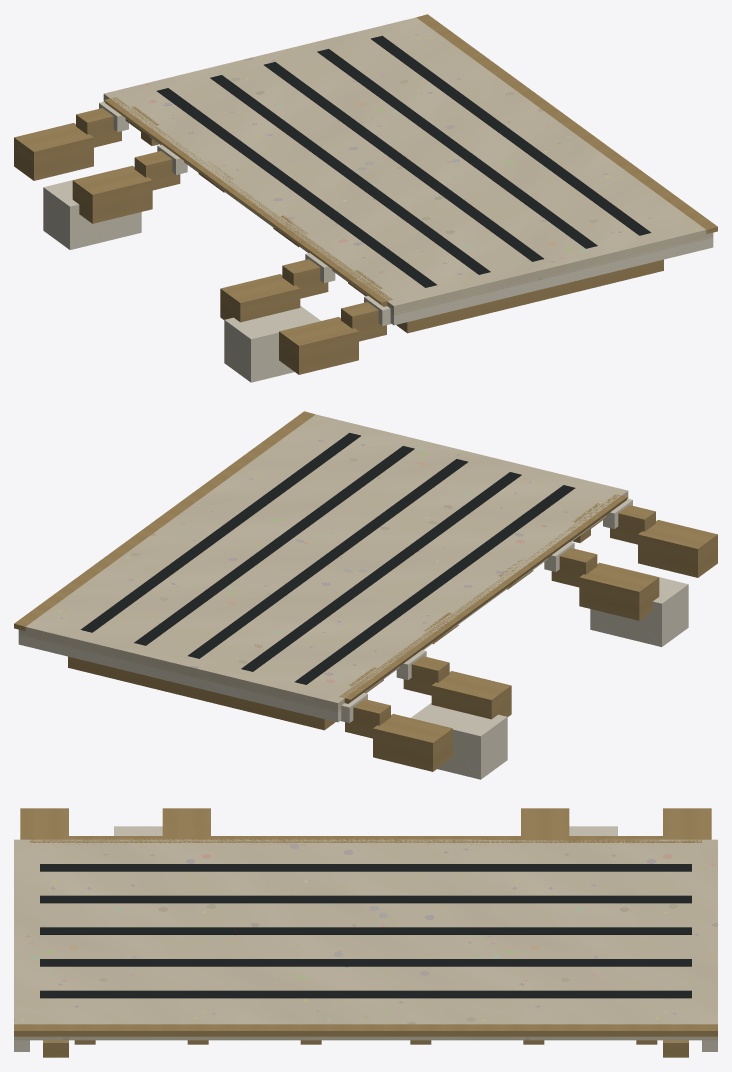
Rendered from bridge.glb.
3 renders of one model, top to bottom at view 1: azimuth 30°, elevation 25°; view 2: azimuth 150°, elevation 25°; view 3: azimuth 270°, elevation 25°, orthographic. The views are drawn at different scales.
Visible parts, largest first — view 1: BRIDGE_MainDeck, BRIDGE_HingeDriveHousing_0.68, BRIDGE_FixedHingePin, BRIDGE_ProfiledEdge_1.065, BRIDGE_CabinReceivingTongue_20mm, BRIDGE_FixedAnchor_3, BRIDGE_FixedAnchor_0, BRIDGE_HingeDriveHousing_-0.68, BRIDGE_FixedAnchor_1, BRIDGE_RecessedGrip_1, BRIDGE_RecessedGrip_2, BRIDGE_RecessedGrip_0 (+8 smaller); view 2: BRIDGE_MainDeck, BRIDGE_HingeDriveHousing_-0.68, BRIDGE_FixedHingePin, BRIDGE_ProfiledEdge_-1.065, BRIDGE_CabinReceivingTongue_20mm, BRIDGE_FixedAnchor_0, BRIDGE_FixedAnchor_3, BRIDGE_HingeDriveHousing_0.68, BRIDGE_FixedAnchor_2, BRIDGE_RecessedGrip_1, BRIDGE_RecessedGrip_2, BRIDGE_RecessedGrip_0 (+8 smaller); view 3: BRIDGE_MainDeck, BRIDGE_CabinReceivingTongue_20mm, BRIDGE_RecessedGrip_1, BRIDGE_RecessedGrip_4, BRIDGE_RecessedGrip_0, BRIDGE_RecessedGrip_2, BRIDGE_RecessedGrip_3, BRIDGE_FixedHingePin, BRIDGE_FixedAnchor_0, BRIDGE_FixedAnchor_3, BRIDGE_FixedAnchor_1, BRIDGE_FixedAnchor_2 (+4 smaller).
Boxes of the visible parts, bbox=[...] form: BRIDGE_MainDeck: bbox=[103, 17, 713, 315]; BRIDGE_HingeDriveHousing_0.68: bbox=[224, 306, 320, 382]; BRIDGE_FixedHingePin: bbox=[104, 97, 392, 306]; BRIDGE_ProfiledEdge_1.065: bbox=[390, 236, 713, 325]; BRIDGE_CabinReceivingTongue_20mm: bbox=[416, 14, 717, 233]; BRIDGE_FixedAnchor_3: bbox=[279, 317, 358, 374]; BRIDGE_FixedAnchor_0: bbox=[14, 123, 93, 180]; BRIDGE_HingeDriveHousing_-0.68: bbox=[43, 170, 141, 249]; BRIDGE_FixedAnchor_1: bbox=[72, 165, 152, 223]; BRIDGE_RecessedGrip_1: bbox=[210, 75, 490, 274]; BRIDGE_RecessedGrip_2: bbox=[264, 62, 543, 261]; BRIDGE_RecessedGrip_0: bbox=[156, 88, 436, 287]; BRIDGE_MainDeck: bbox=[18, 414, 628, 712]; BRIDGE_HingeDriveHousing_-0.68: bbox=[411, 703, 507, 779]; BRIDGE_FixedHingePin: bbox=[339, 494, 627, 703]; BRIDGE_ProfiledEdge_-1.065: bbox=[18, 633, 341, 722]; BRIDGE_CabinReceivingTongue_20mm: bbox=[14, 411, 315, 630]; BRIDGE_FixedAnchor_0: bbox=[373, 714, 452, 771]; BRIDGE_FixedAnchor_3: bbox=[638, 520, 717, 577]; BRIDGE_HingeDriveHousing_0.68: bbox=[590, 567, 688, 646]; BRIDGE_FixedAnchor_2: bbox=[579, 562, 659, 620]; BRIDGE_RecessedGrip_1: bbox=[241, 472, 521, 671]; BRIDGE_RecessedGrip_2: bbox=[188, 459, 467, 658]; BRIDGE_RecessedGrip_0: bbox=[295, 485, 575, 684]; BRIDGE_MainDeck: bbox=[14, 839, 717, 1040]; BRIDGE_CabinReceivingTongue_20mm: bbox=[14, 1024, 717, 1036]; BRIDGE_RecessedGrip_1: bbox=[40, 895, 691, 903]; BRIDGE_RecessedGrip_4: bbox=[40, 990, 691, 998]; BRIDGE_RecessedGrip_0: bbox=[40, 864, 691, 871]; BRIDGE_RecessedGrip_2: bbox=[40, 927, 691, 934]; BRIDGE_RecessedGrip_3: bbox=[40, 959, 691, 966]; BRIDGE_FixedHingePin: bbox=[30, 836, 701, 842]; BRIDGE_FixedAnchor_0: bbox=[663, 808, 711, 839]; BRIDGE_FixedAnchor_3: bbox=[20, 808, 68, 839]; BRIDGE_FixedAnchor_1: bbox=[521, 808, 569, 835]; BRIDGE_FixedAnchor_2: bbox=[162, 808, 210, 835].
Bounding box in the file's own units: 1.85 × 0.3415 × 2.18.
Materials: 4 (4 with a texture image).
